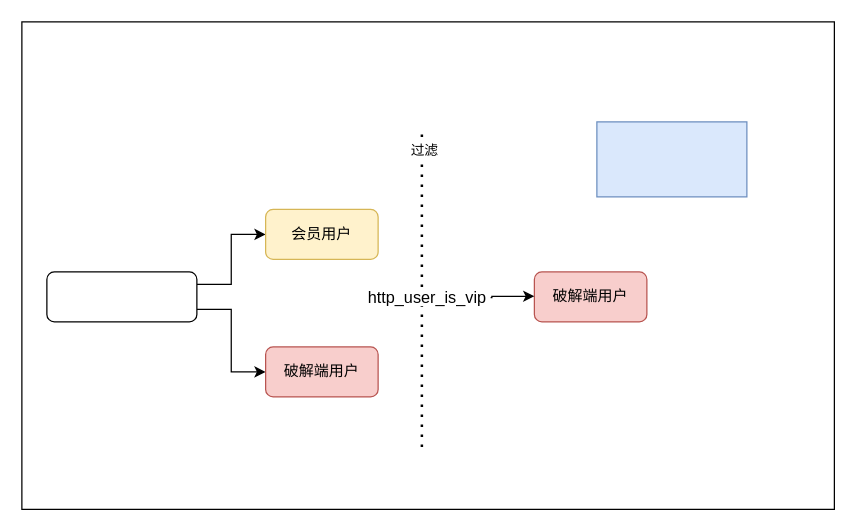
Image size: 856x531. Some labels were removed from this diagram. The box of each missing label's shape, as (x1, y1, x2, y2) in pixels:
http_user_is_vip： 0—非会员 1—老会员 2—svip: (596, 121, 747, 197)
请求参数 isVip = 1: (46, 271, 197, 322)
